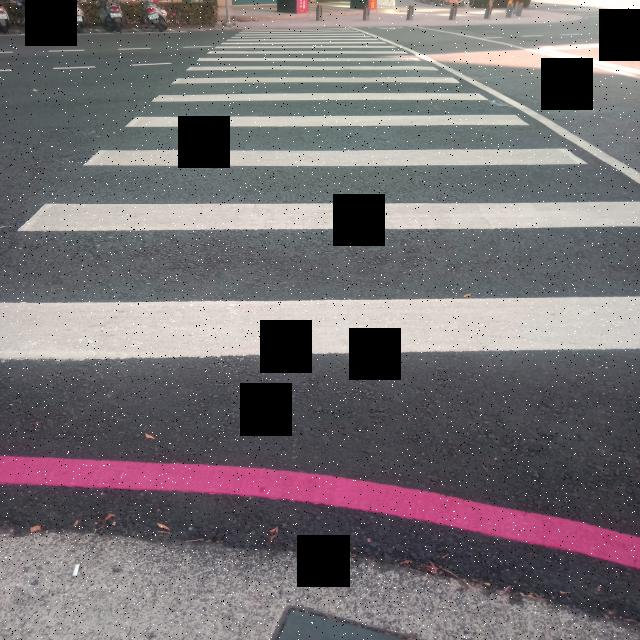zebra crossing: (0, 29, 640, 365)
